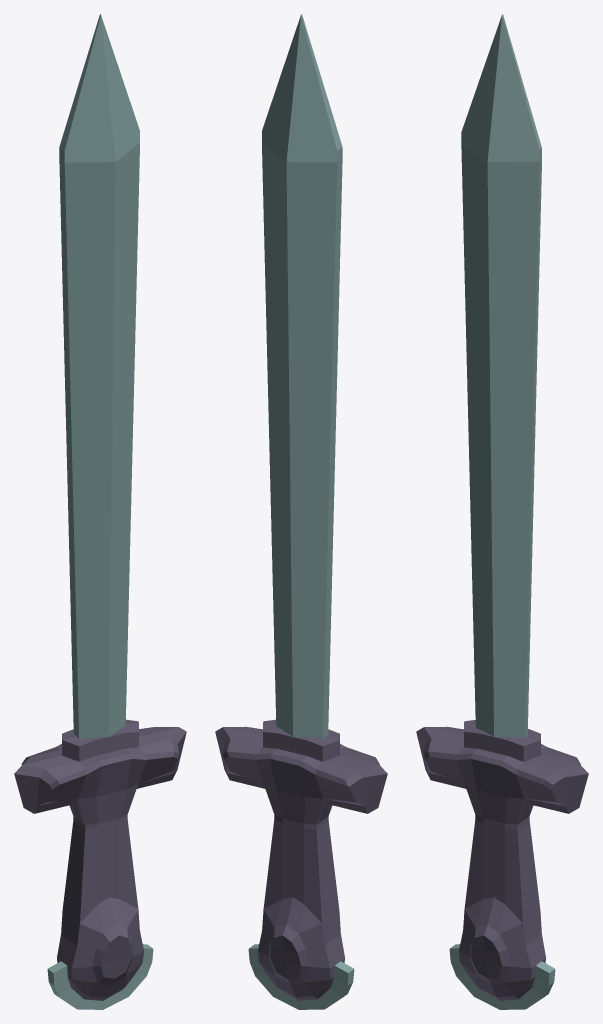
Rendered from NEWbaseSword.fbx.
3 renders of one model, left to right at view 1: azimuth 30°, elevation 25°; view 2: azimuth 150°, elevation 25°; view 3: azimuth 330°, elevation 25°, orthographic.
Parts seen in each view (by area): view 1: blade, hilt; view 2: blade, hilt; view 3: blade, hilt.
Part boxes in pixels (x1,y1,x2,y2): blade: (59, 14, 139, 739); hilt: (14, 719, 186, 1009); blade: (262, 14, 342, 738); hilt: (215, 719, 387, 1009); blade: (461, 14, 541, 737); hilt: (416, 720, 588, 1009).
Bounding box in the file's own units: 8.67 × 47.64 × 3.24.
